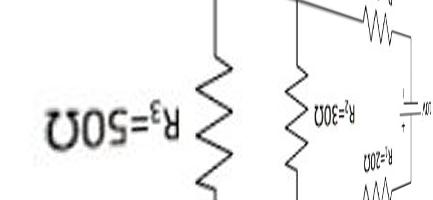resistor: (192, 54, 237, 192), (277, 53, 312, 172), (357, 3, 404, 51), (352, 174, 396, 197)
